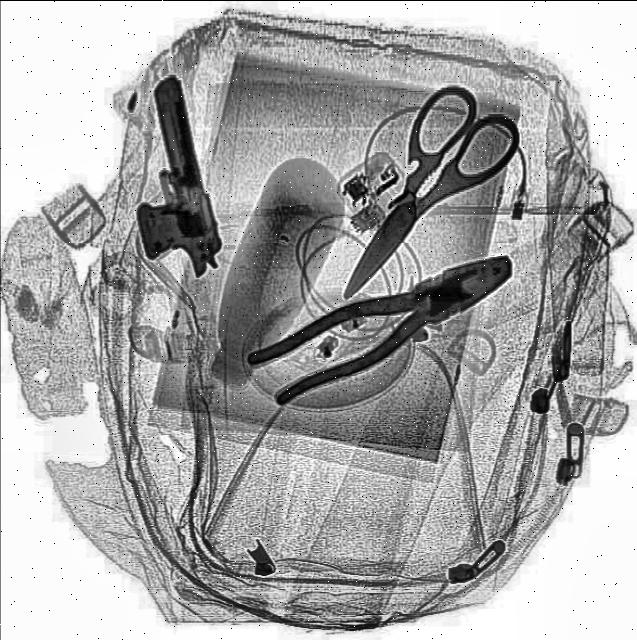Gun: (100, 72, 228, 284)
Pliers: (239, 237, 528, 409)
Scissors: (296, 74, 530, 326)
